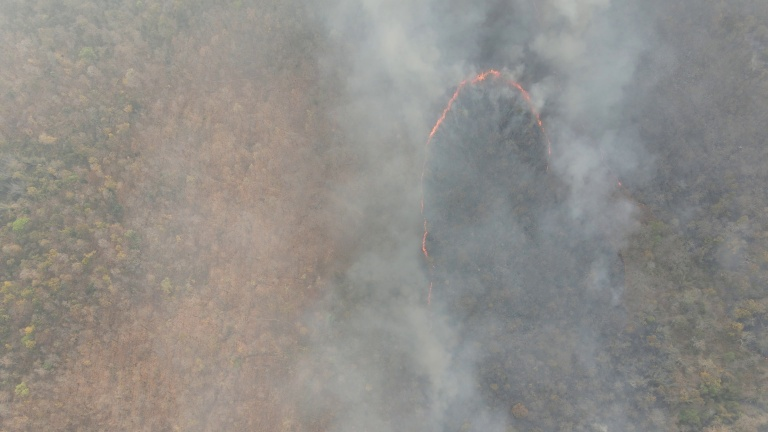fire: (419, 65, 563, 176), (400, 143, 459, 321), (615, 177, 625, 193)
smoke: (328, 1, 470, 219), (527, 1, 641, 262), (328, 251, 496, 425)
